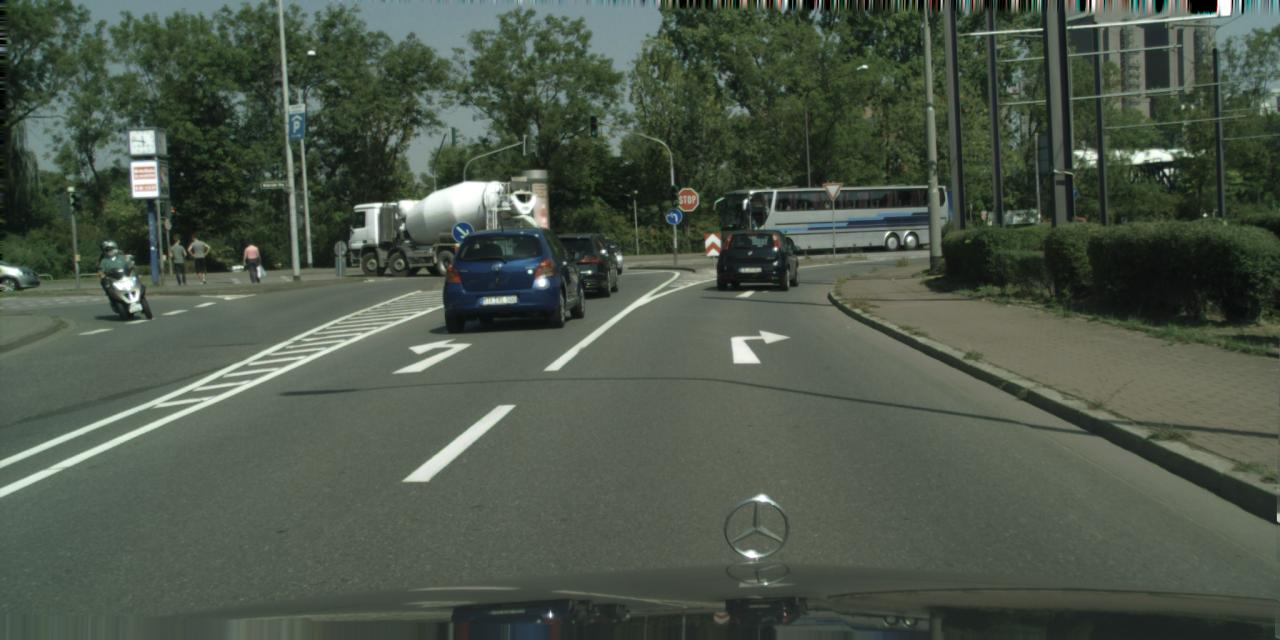ped: (106, 240, 132, 306), (188, 233, 208, 285), (168, 236, 188, 286), (244, 239, 261, 283)
